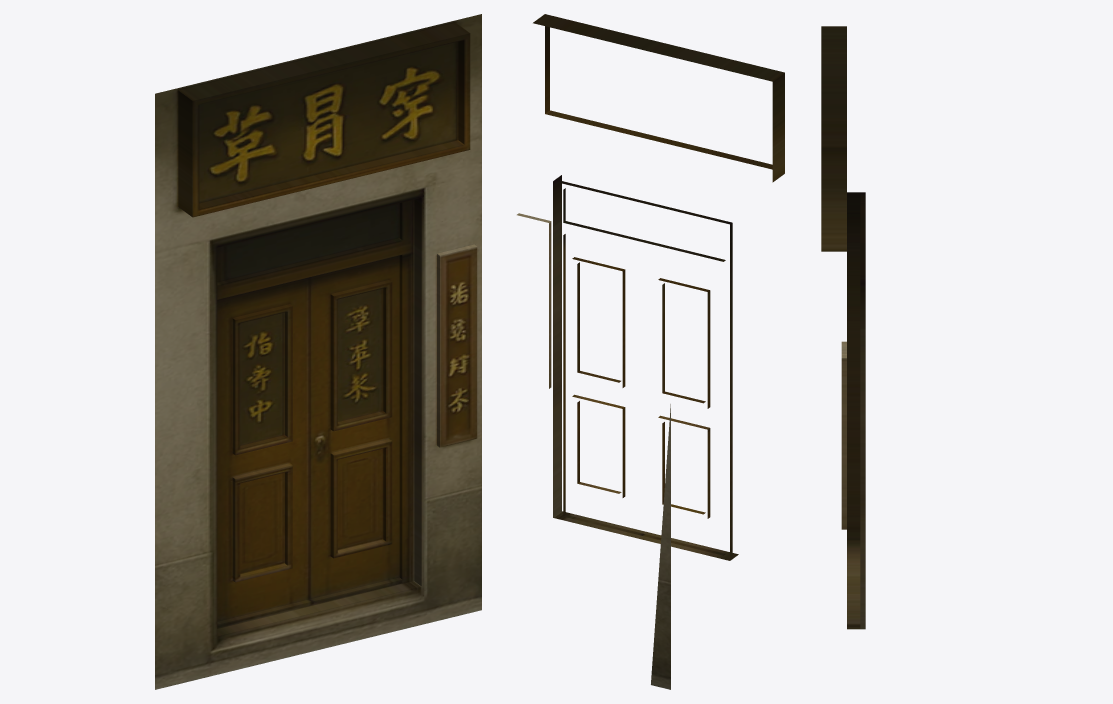
The model's file is a1-door.glb.
3 renders of one model, left to right at view 1: azimuth 30°, elevation 25°; view 2: azimuth 150°, elevation 25°; view 3: azimuth 270°, elevation 25°, orthographic. The views are drawn at different scales.
Parts seen in each view (by area): view 1: a1-door; view 2: a1-door; view 3: a1-door.
Part boxes in pixels (bbox=[...]): a1-door: bbox=[155, 14, 481, 689]; a1-door: bbox=[517, 14, 784, 689]; a1-door: bbox=[821, 26, 865, 629].
Bounding box in the file's own units: 1.34 × 2.34 × 1.1.
2 materials, 2 textured.
